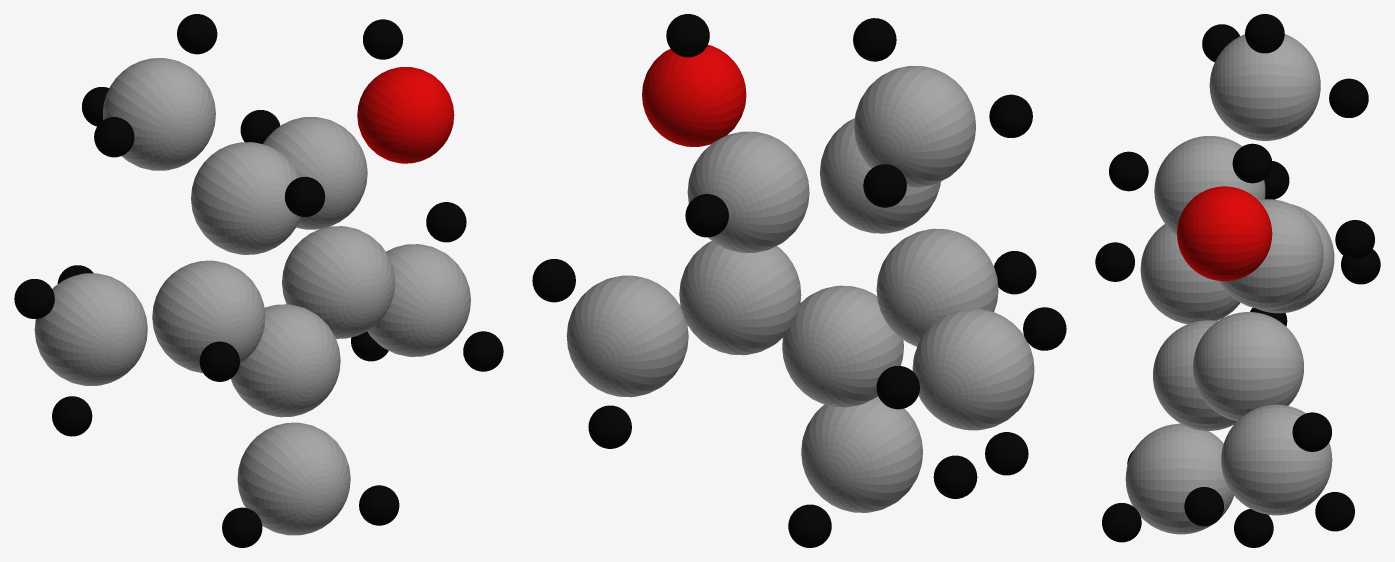
File: Camphor.glb
The picture shows the model from 3 angles, left to right: view 1: azimuth 30°, elevation 25°; view 2: azimuth 150°, elevation 25°; view 3: azimuth 270°, elevation 25°; orthographic projection. The views are drawn at different scales.
Parts seen in each view (by area): view 1: world; view 2: world; view 3: world.
Boxes of the visible parts, x1=… form: world: x1=14, y1=14, x2=503, y2=547; world: x1=532, y1=14, x2=1066, y2=547; world: x1=1095, y1=14, x2=1380, y2=547.
Size of the model in its own units: 6.69 by 6.93 by 3.59.
